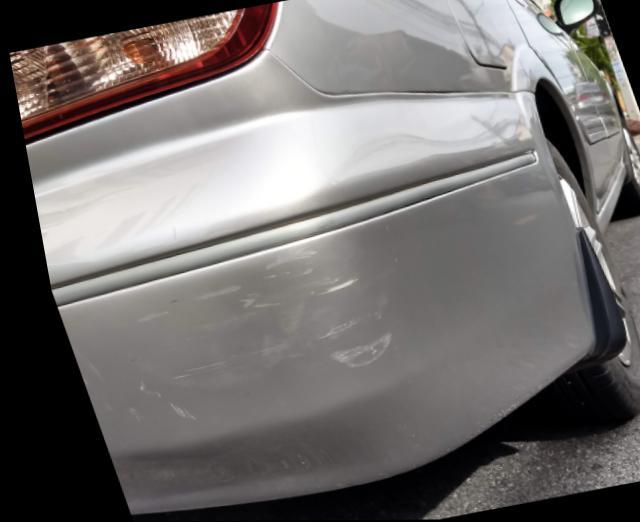scratch: (112, 242, 385, 424)
